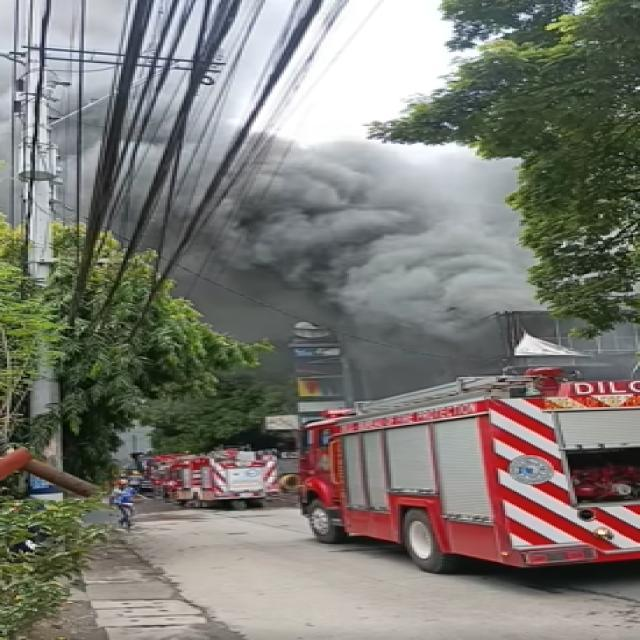Smoke: (77, 92, 538, 316), (359, 278, 484, 382)
